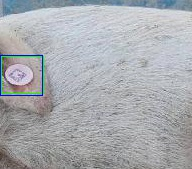text: (1, 56, 43, 93)
